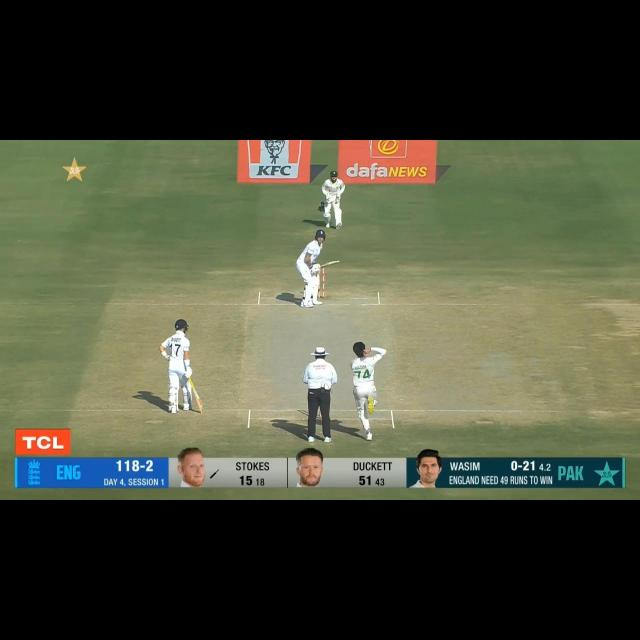bat: (192, 385, 204, 413), (320, 260, 341, 268)
toe: (198, 404, 204, 413), (334, 259, 340, 265)
